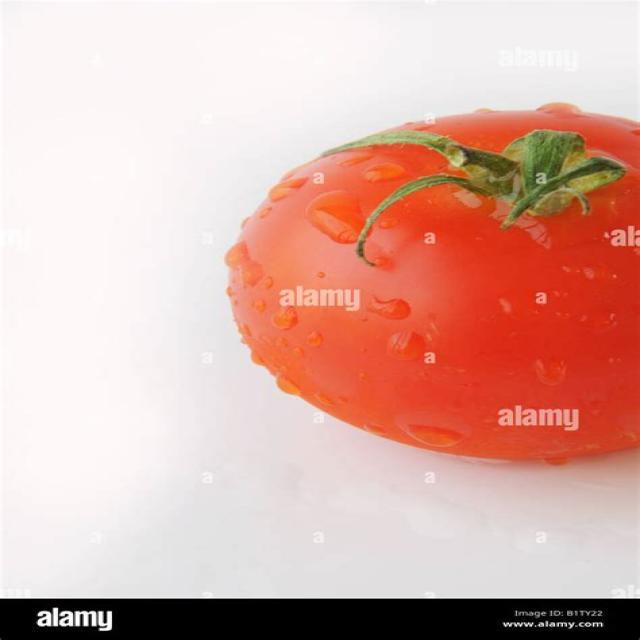Tomato: (223, 103, 640, 467)
